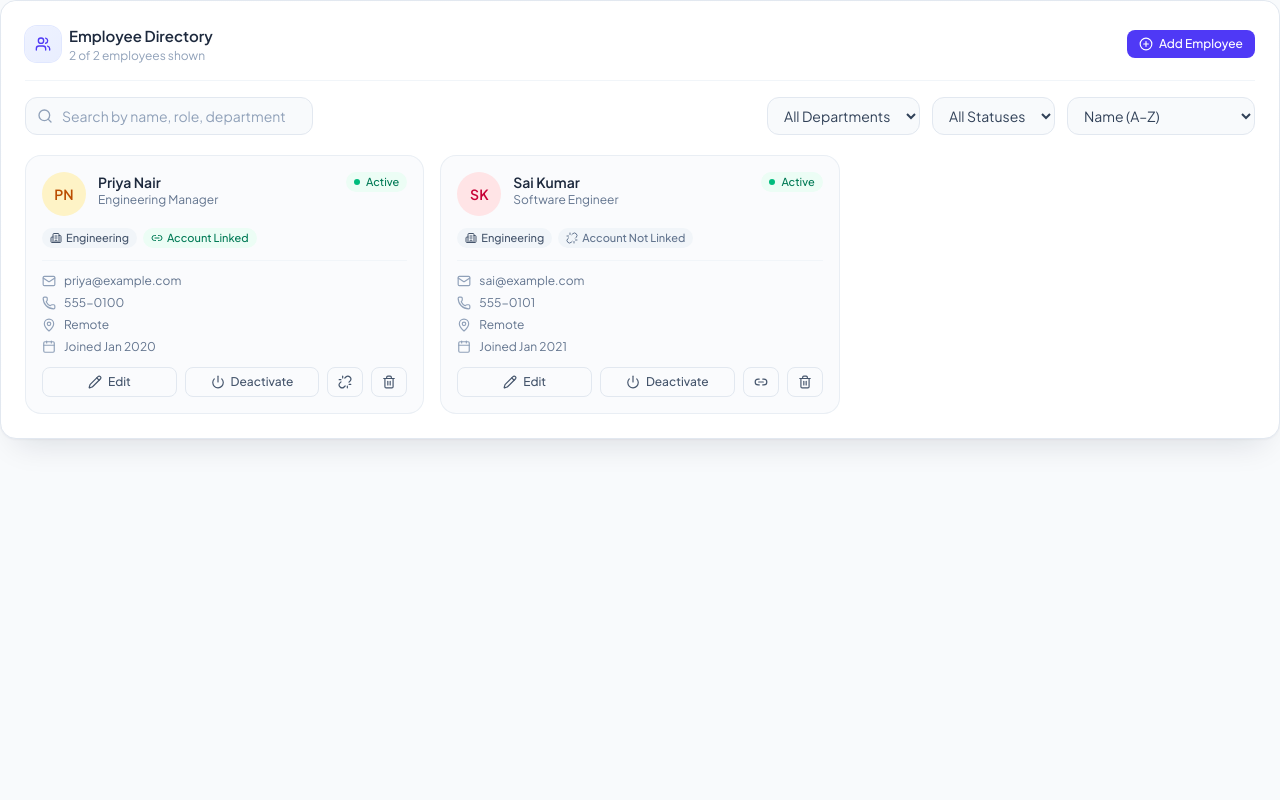
it: EmployeesPage employee-profile linking › requires an explicit account selection before Link Account can be confirmed (no silent default)
This screenshot has width=1280, height=800.
Click the button named "Link account for Sai Kumar": {"x": 761, "y": 382} [743,367,779,397]
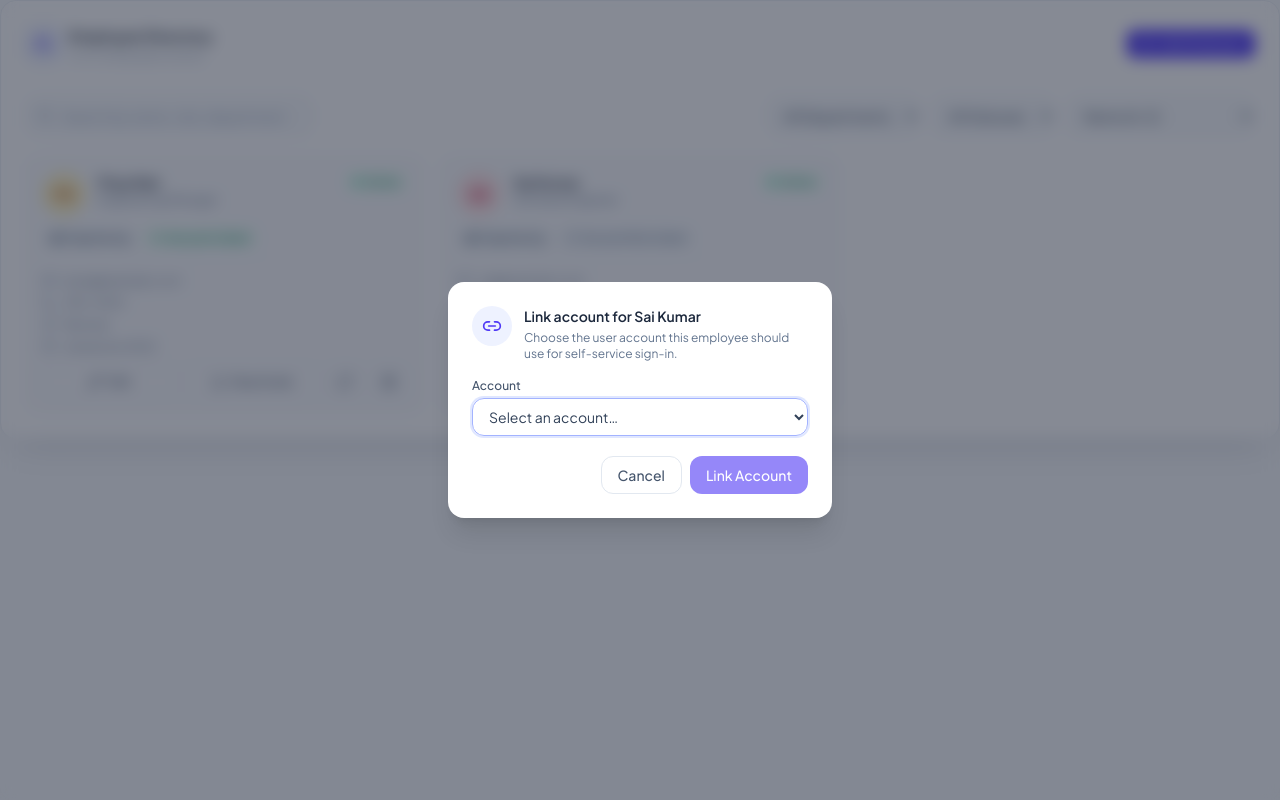
Check: the button "Link Account" is disabled, box [690,456,808,494]
